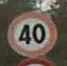limite 40: (3, 10, 59, 57)
